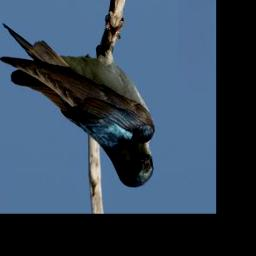Swallow: (0, 13, 156, 188)
